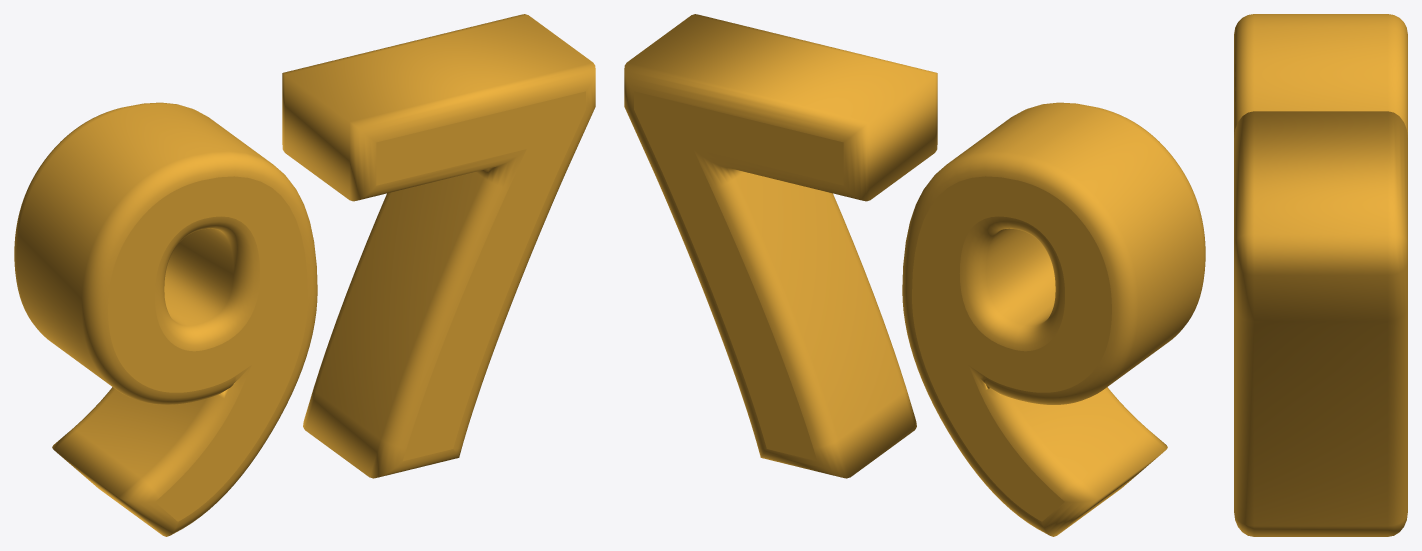
3 renders of one model, left to right at view 1: azimuth 30°, elevation 25°; view 2: azimuth 150°, elevation 25°; view 3: azimuth 270°, elevation 25°, orthographic. The views are drawn at different scales.
Visible parts, largest first — view 1: Text; view 2: Text; view 3: Text.
Part boxes in pixels (x1=…): Text: x1=14, y1=14, x2=595, y2=536; Text: x1=624, y1=14, x2=1205, y2=536; Text: x1=1234, y1=14, x2=1407, y2=536.
Size of the model in its own units: 91.31 by 63.6 by 26.
